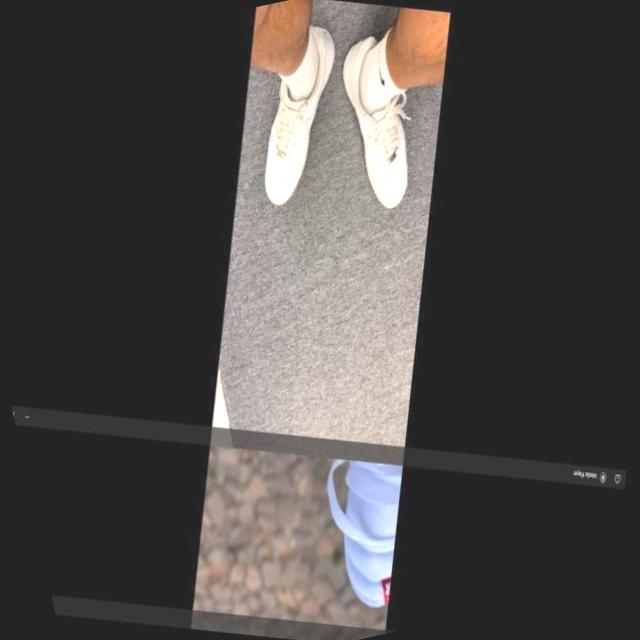nike_original_airforce: (294, 16, 456, 226), (225, 12, 372, 222)
